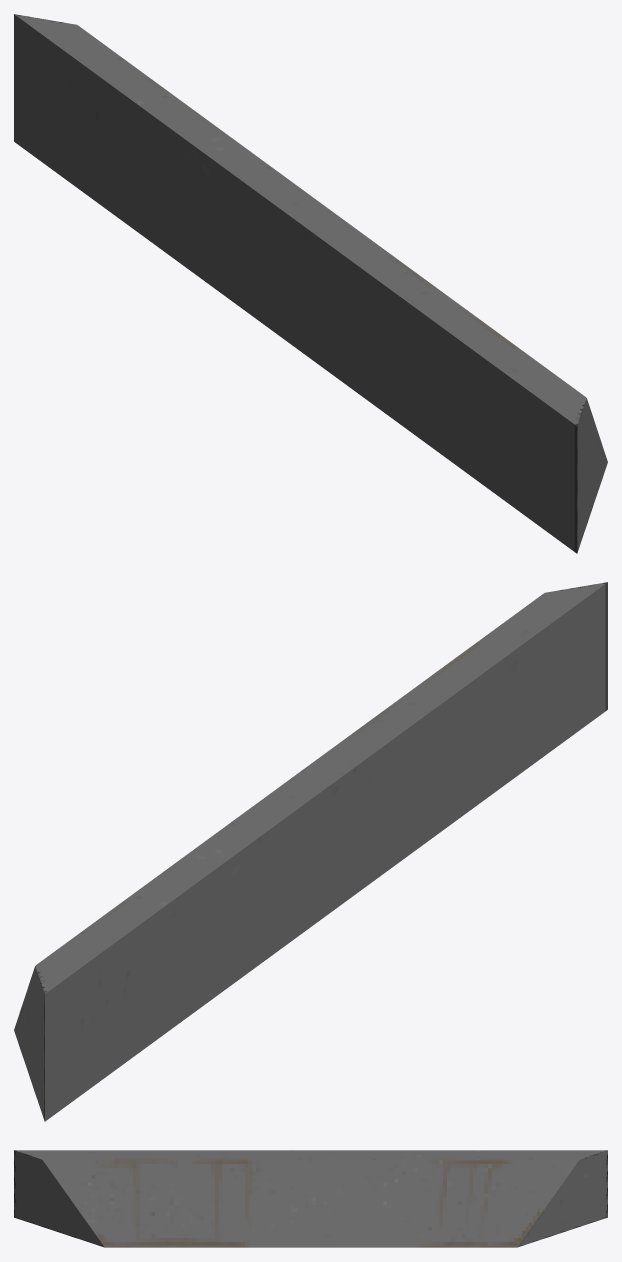
Rendered from Wall_Horizontal.fbx.
3 views of the same model, one above another, from view 1: azimuth 30°, elevation 25°; view 2: azimuth 150°, elevation 25°; view 3: azimuth 270°, elevation 25° (orthographic). The views are drawn at different scales.
Visible parts, largest first — view 1: Wall_Blank_East; view 2: Wall_Blank_East; view 3: Wall_Blank_East.
Boxes of the visible parts, x1,y1,x2,y2 form: Wall_Blank_East: (14,14,607,553); Wall_Blank_East: (14,582,607,1121); Wall_Blank_East: (14,1150,607,1247).
Size of the model in its own units: 288 by 300 by 2400.
Materials: 1 (1 with a texture image).
